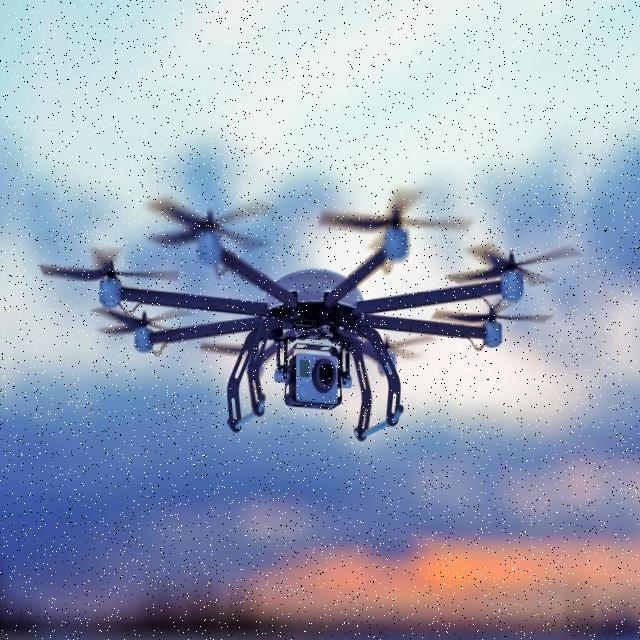UAV: (97, 181, 525, 444)
